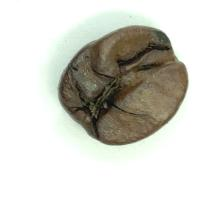NG: (68, 32, 171, 126)
